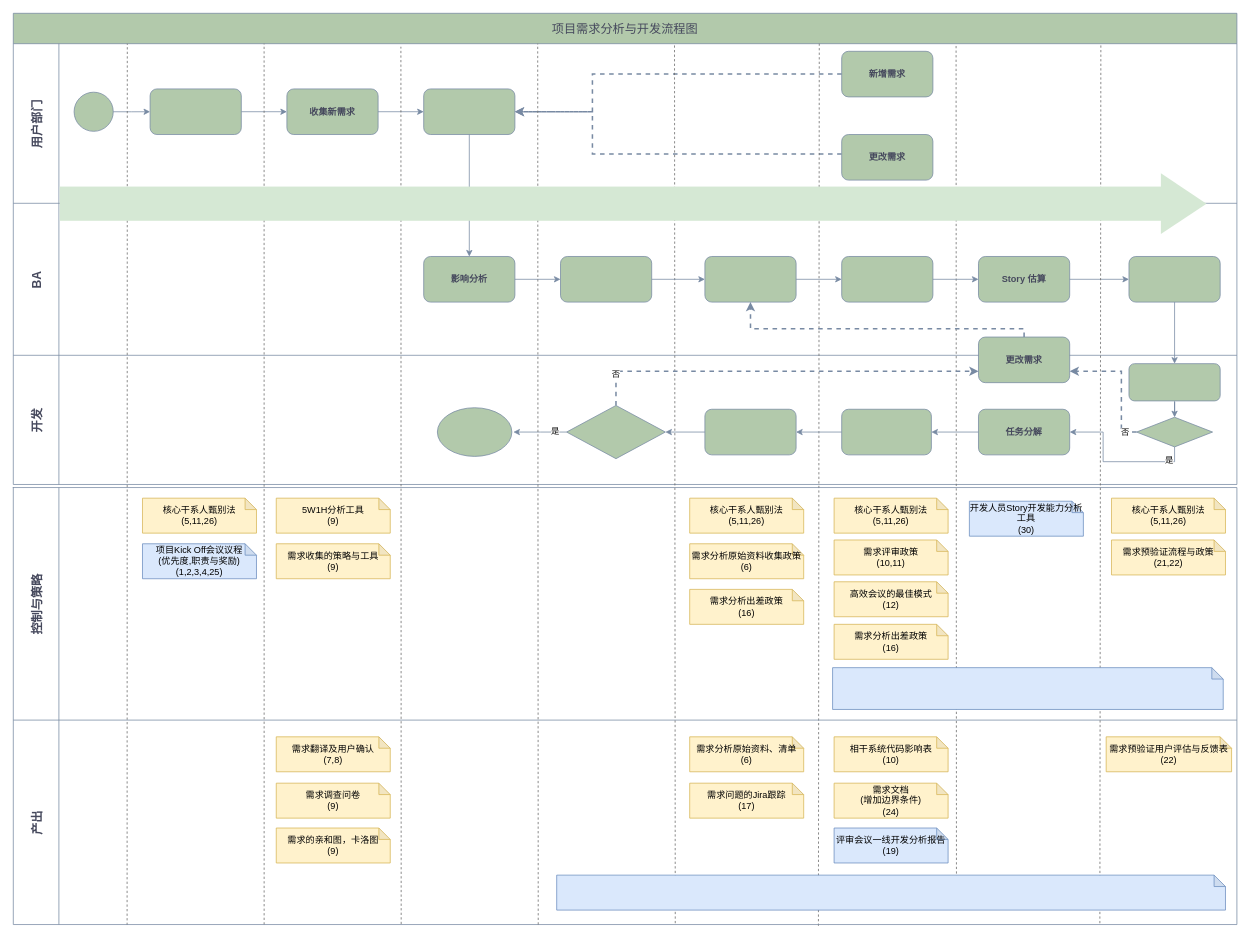
Some shapes in this 1250 by 940 pixel diagram are drawn without their labels. Here are the shapes that lost their labels. From the top down, the centre of each, then its label:
At (x=93, y=111): "开始".
At (x=195, y=111): "项目启动".
At (x=469, y=111): "需求录入系统".
At (x=606, y=279): "制作需求初稿".
At (x=750, y=279): "需求梳理会议 （用户，PO， Dev, Test)".
At (x=887, y=279): "需求评审 (用户，PO， Dev, Test)".
At (x=1174, y=279): "需求确认 (用户，PO， Dev, Test)".
At (x=1174, y=382): "需求预验证".
At (x=474, y=431): "交付测试".
At (x=615, y=432): "模拟结果".
At (x=750, y=431): "场景模拟".
At (x=886, y=431): "编码".
At (x=1174, y=431): "验证结果".
At (x=1027, y=688): "变更流程管理 (需求确认后的变更) (29,30,31)".
At (x=891, y=892): "项目会议记录Confluence Page文档化 (跟踪，确认与分析) (15)".
